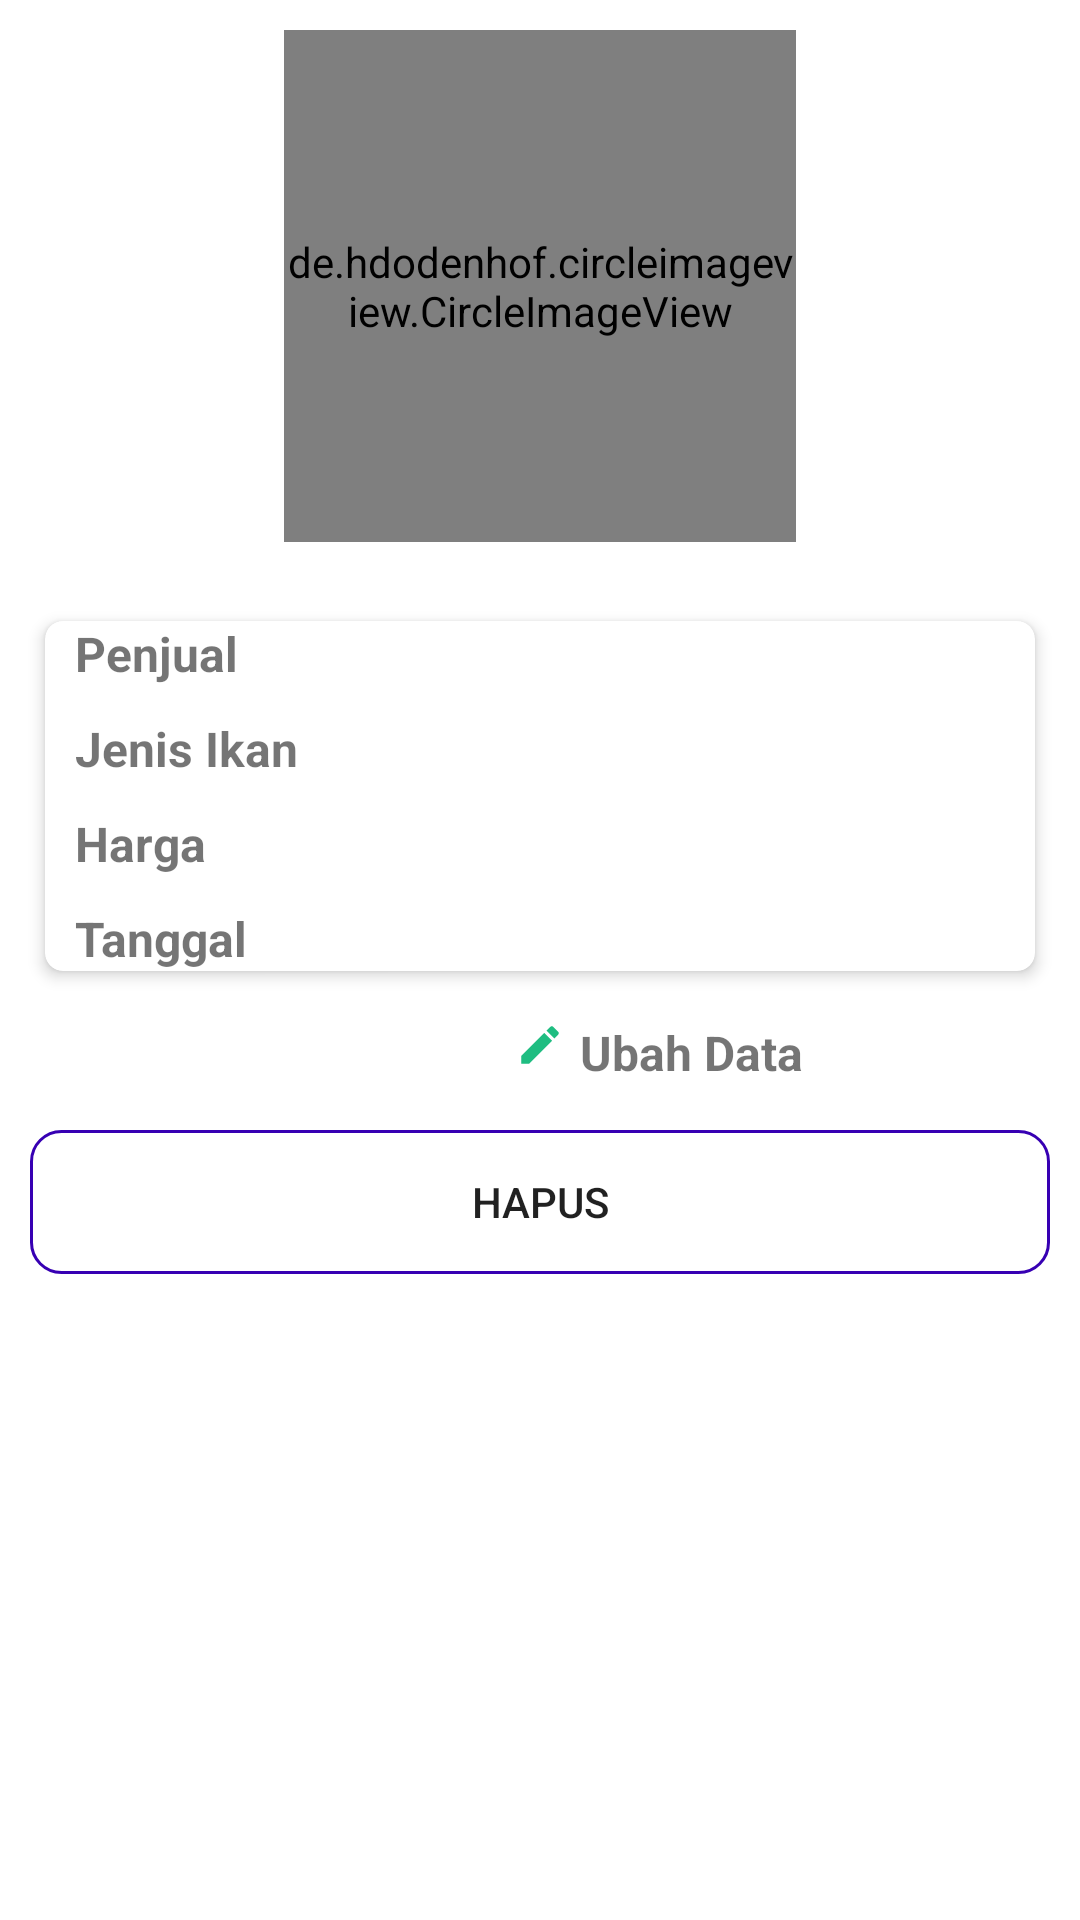

Named icons in this screenshot (1080 x 1920) and their bounding boxes, (x1, y1, x2, y2):
edit: (521, 1026, 559, 1064)
